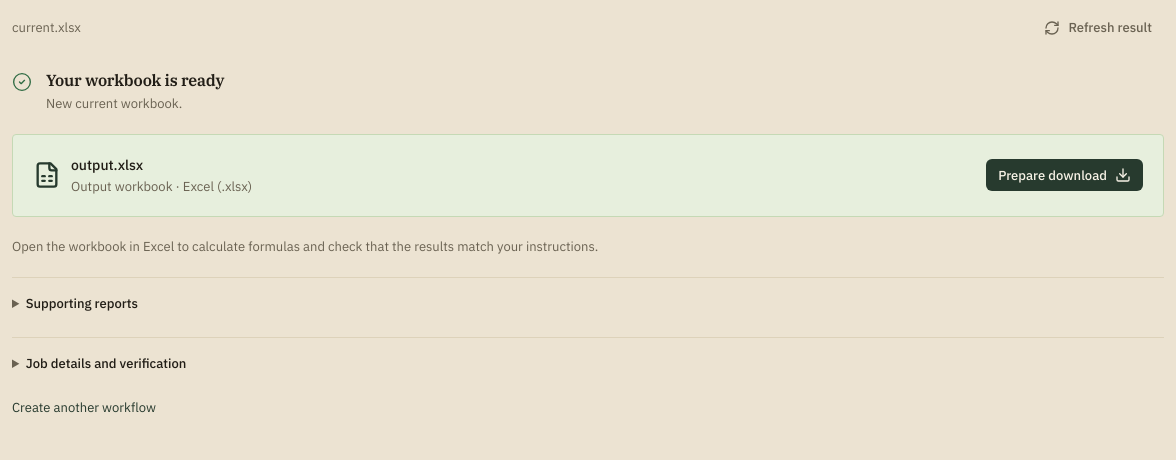
reports request errors without advertising a download or retrying automatically
The image size is (1176, 460).
Step 1. Click the button "Prepare download" → click(1065, 175), box [986,159,1143,191]
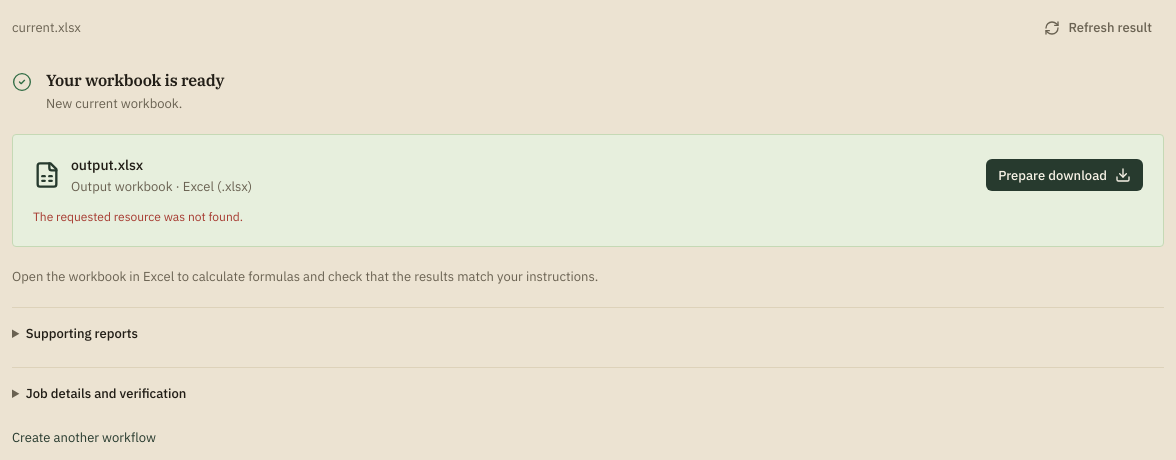
Now the message "The requested resource was not found." is shown, box [33,209,243,224]
